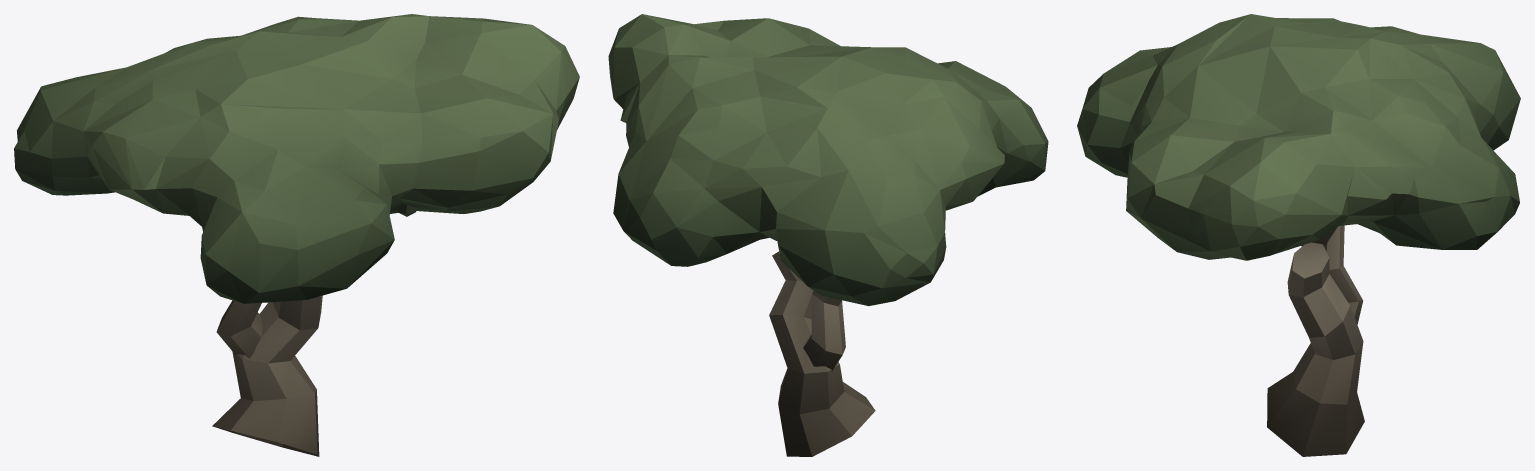
The model's file is oliwka_1.glb.
3 renders of one model, left to right at view 1: azimuth 30°, elevation 25°; view 2: azimuth 150°, elevation 25°; view 3: azimuth 270°, elevation 25°, orthographic. The views are drawn at different scales.
Visible parts, largest first — view 1: oliwka_1; view 2: oliwka_1; view 3: oliwka_1.
Part boxes in pixels (<box>): oliwka_1: <box>14,14,579,456</box>; oliwka_1: <box>608,14,1048,456</box>; oliwka_1: <box>1077,14,1520,456</box>.
Bounding box in the file's own units: 1.56 × 1.38 × 1.39.
